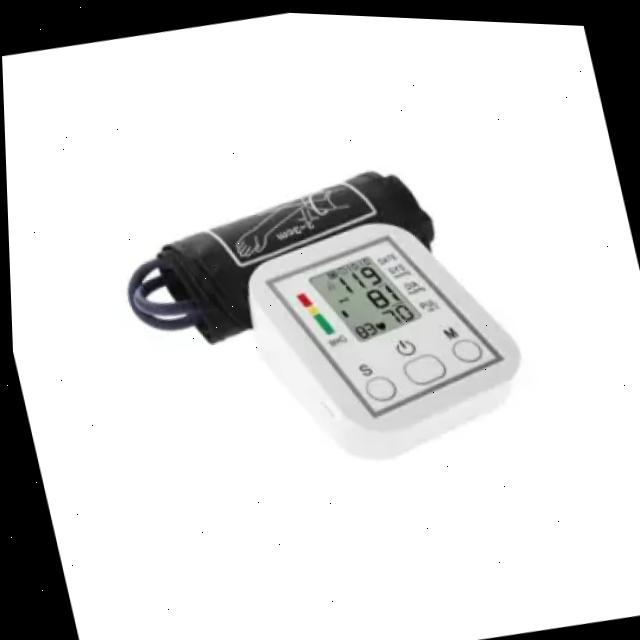dia: (360, 273, 402, 311)
pul: (377, 292, 416, 327)
ssd: (303, 235, 422, 356)
sys: (331, 254, 386, 296)
